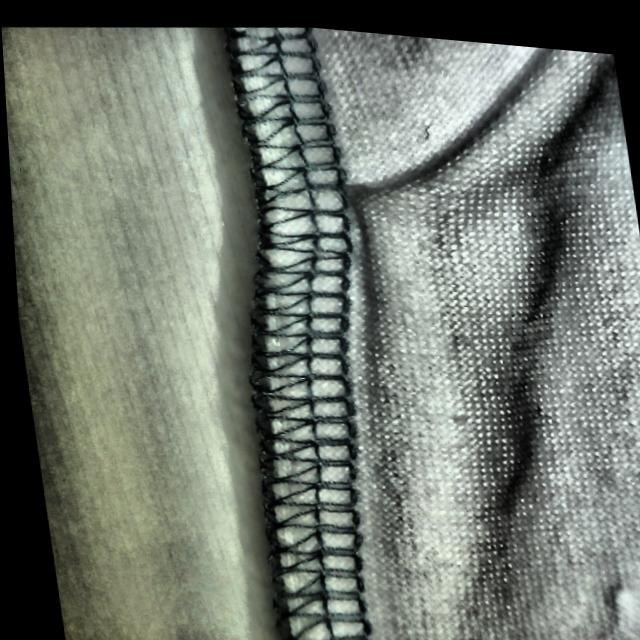seam: (186, 95, 491, 325)
